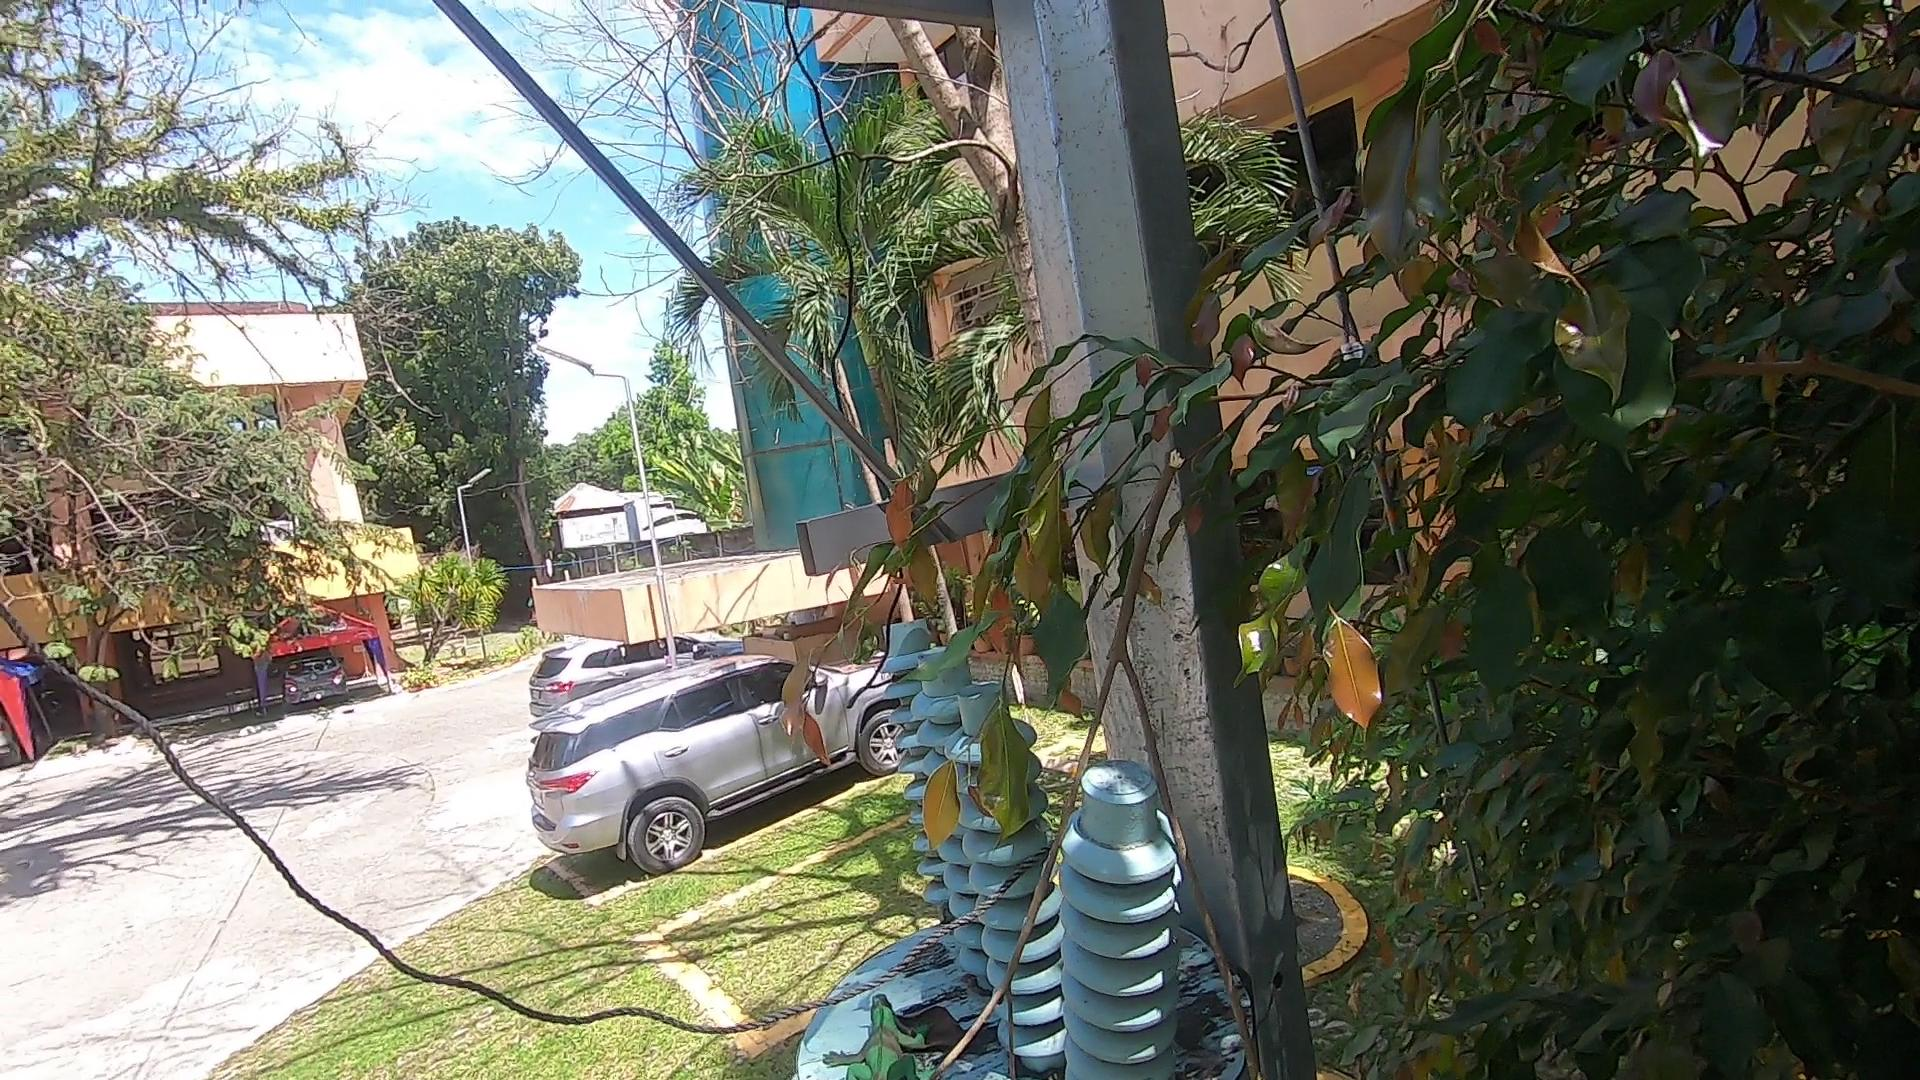leaf: (898, 996, 965, 1050)
tree branch: (915, 435, 1242, 1080)
